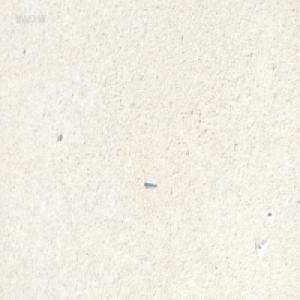Nail: (144, 179, 156, 188)
